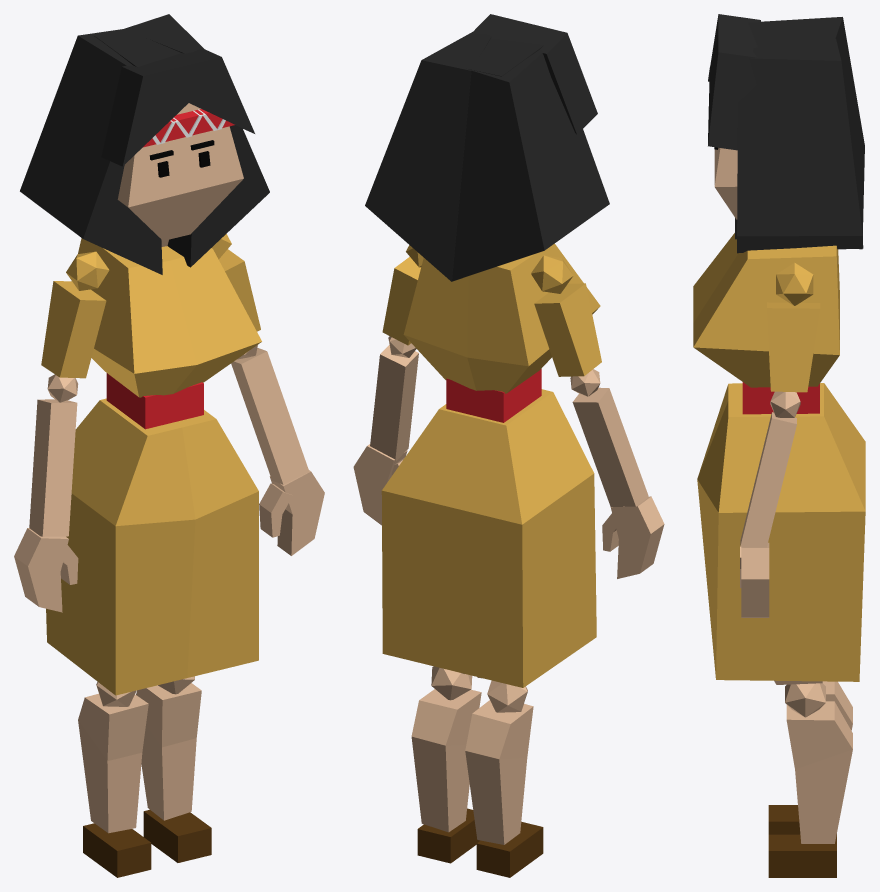
The model's file is Player.fbx.
3 views of the same model, side by side, from view 1: azimuth 30°, elevation 25°; view 2: azimuth 150°, elevation 25°; view 3: azimuth 270°, elevation 25° (orthographic). The views are drawn at different scales.
Parts seen in each view (by area): view 1: Cube.012, Cube.002, Cube.026, Cube.023, Cube, Cube.017, Cube.014, Cube.008, Cube.025, Cube.004, Cube.007, Cube.009 (+10 smaller); view 2: Cube.012, Cube.026, Cube.025, Cube.002, Cube.017, Cube.014, Cube.008, Cube.023, Cube.007, Cube.004, Cube.009, Cube.011 (+8 smaller); view 3: Cube.012, Cube.025, Cube.002, Cube.014, Cube.023, Cube.003, Cube.004, Cube.015, Cube.026, Cube.005, Cube.024, Cube.011 (+6 smaller).
Part boxes in pixels (bbox=[...]): Cube.012: bbox=[46, 398, 258, 695]; Cube.002: bbox=[78, 238, 261, 397]; Cube.026: bbox=[20, 29, 162, 274]; Cube.023: bbox=[101, 48, 254, 166]; Cube: bbox=[117, 103, 243, 240]; Cube.017: bbox=[78, 693, 148, 833]; Cube.014: bbox=[136, 683, 201, 820]; Cube.008: bbox=[29, 399, 77, 536]; Cube.025: bbox=[124, 14, 269, 267]; Cube.004: bbox=[231, 347, 309, 484]; Cube.007: bbox=[41, 281, 106, 378]; Cube.009: bbox=[14, 528, 68, 612]; Cube.012: bbox=[381, 389, 596, 687]; Cube.026: bbox=[452, 50, 609, 281]; Cube.025: bbox=[365, 32, 491, 281]; Cube.002: bbox=[403, 243, 600, 393]; Cube.017: bbox=[465, 700, 533, 844]; Cube.014: bbox=[411, 689, 481, 832]; Cube.008: bbox=[572, 387, 648, 506]; Cube.023: bbox=[471, 14, 597, 134]; Cube.007: bbox=[534, 283, 601, 376]; Cube.004: bbox=[370, 345, 418, 461]; Cube.009: bbox=[610, 496, 664, 578]; Cube.011: bbox=[446, 369, 541, 422]; Cube.012: bbox=[697, 383, 865, 681]; Cube.025: bbox=[737, 38, 863, 253]; Cube.002: bbox=[693, 233, 839, 387]; Cube.014: bbox=[786, 701, 852, 843]; Cube.023: bbox=[708, 14, 760, 150]; Cube.003: bbox=[767, 302, 820, 392]; Cube.004: bbox=[740, 412, 796, 547]; Cube.015: bbox=[768, 834, 836, 877]; Cube.026: bbox=[735, 17, 864, 249]; Cube.005: bbox=[741, 542, 769, 617]; Cube.024: bbox=[748, 22, 834, 47]; Cube.011: bbox=[742, 382, 819, 414].
Size of the model in its own units: 395 by 1029 by 196.
